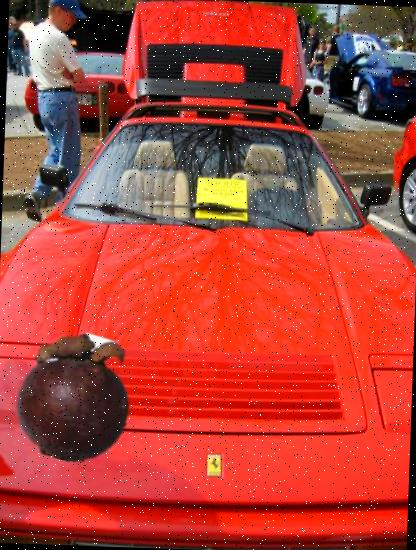Mangostan: (10, 330, 142, 464)
